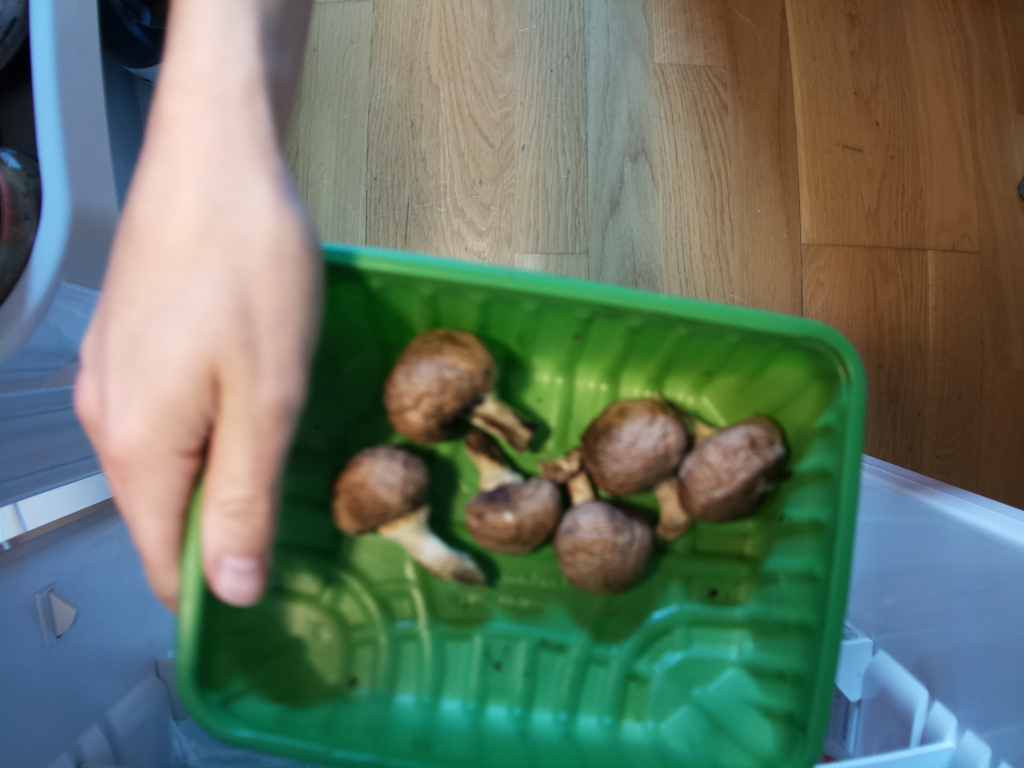mushrooms-bad: (171, 242, 866, 765)
